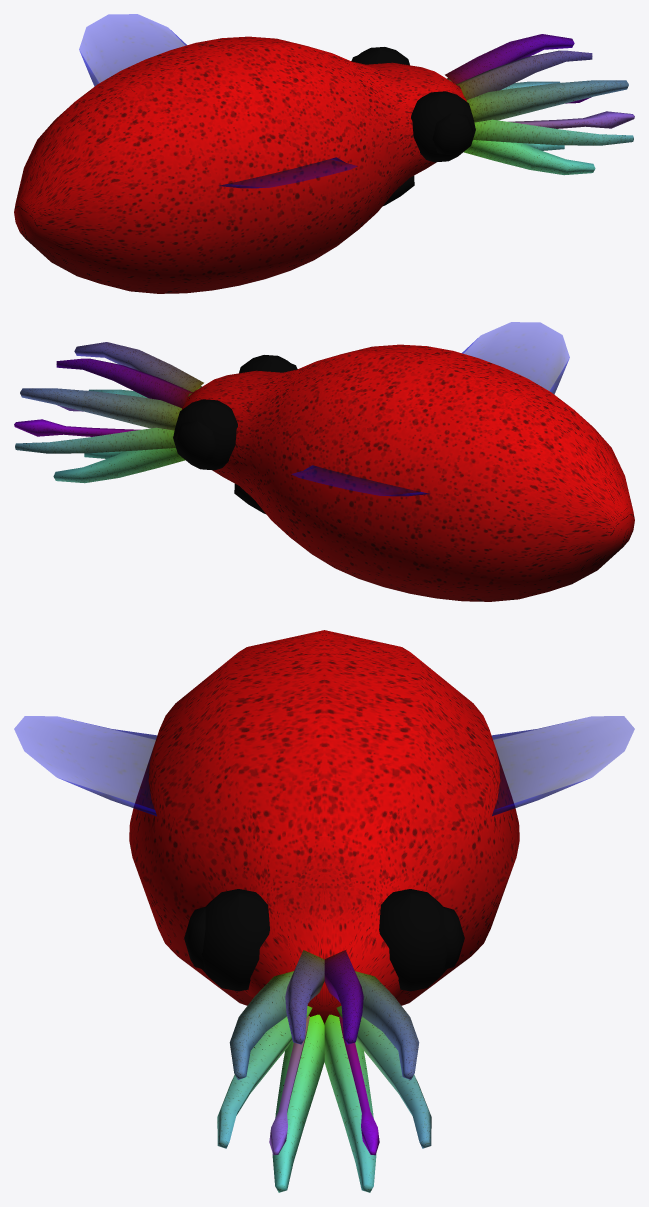
File: bobtail_squid_lod1.glb
The picture shows the model from 3 angles, top to bottom: view 1: azimuth 30°, elevation 25°; view 2: azimuth 150°, elevation 25°; view 3: azimuth 270°, elevation 25°; orthographic projection. The views are drawn at different scales.
Parts seen in each view (by area): view 1: Body, Arms, Fins, Eyes; view 2: Body, Arms, Fins, Eyes; view 3: Body, Arms, Fins, Eyes.
Boxes of the visible parts, <box> form: Body: <box>14,36,466,293</box>; Arms: <box>445,34,634,175</box>; Fins: <box>79,14,356,188</box>; Eyes: <box>351,47,475,162</box>; Body: <box>182,344,634,601</box>; Arms: <box>14,342,203,483</box>; Fins: <box>292,322,569,496</box>; Eyes: <box>173,355,297,470</box>; Body: <box>129,630,519,1023</box>; Arms: <box>217,950,431,1192</box>; Fins: <box>14,716,634,816</box>; Eyes: <box>184,889,464,991</box>.
Size of the model in its own units: 1 by 0.3439 by 0.6383.
4 materials, 2 textured.
